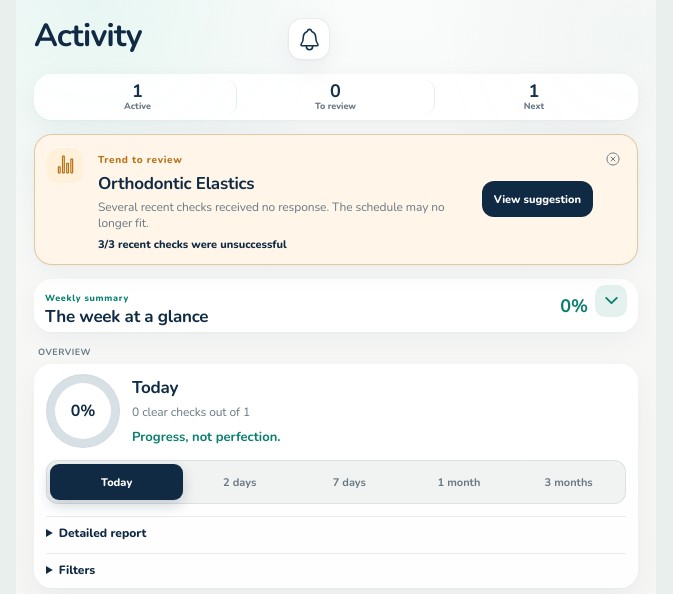
ParentDashboard › compares and applies a conservative schedule recommendation only after confirmation
This screenshot has width=673, height=594.
Check: the text "Suggested schedule adjustment" is not shown
Click the button "View suggestion" at (537, 199), box x1=482 y1=181 x2=593 y2=217
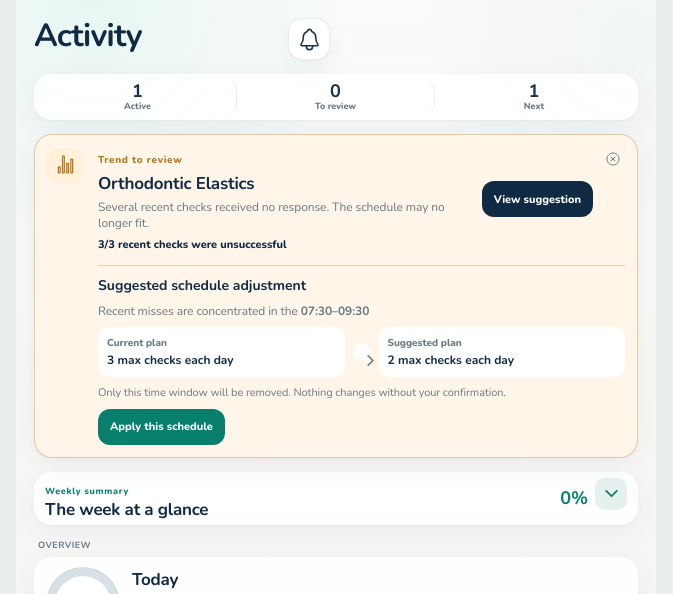
Check: the element that starts with "Suggested schedule adjustment" shows "3 max checks each day", box x1=98 y1=265 x2=625 y2=444
Check: the element that starts with "Suggested schedule adjustment" shows "2 max checks each day", box x1=98 y1=265 x2=625 y2=444
Click the button "Apply this schedule" at (161, 426), box x1=98 y1=408 x2=225 y2=444
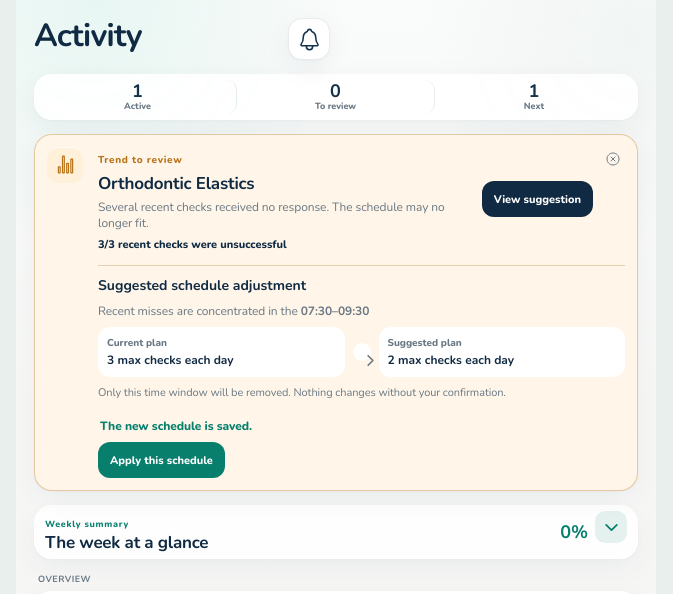
Check: the element that starts with "Suggested schedule adjustment" shows "The new schedule is saved.", box x1=100 y1=418 x2=252 y2=434
